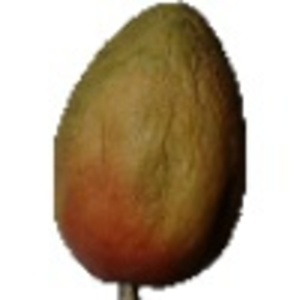mamão: (28, 2, 261, 287)
